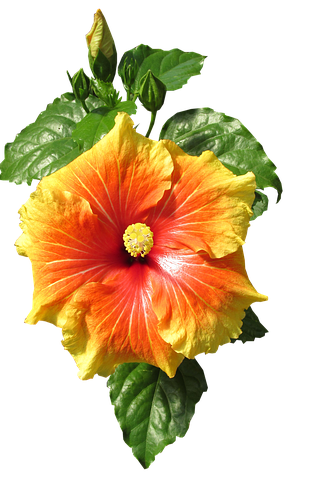Hibiscus: (12, 132, 256, 377), (76, 10, 137, 96), (134, 57, 174, 127)
